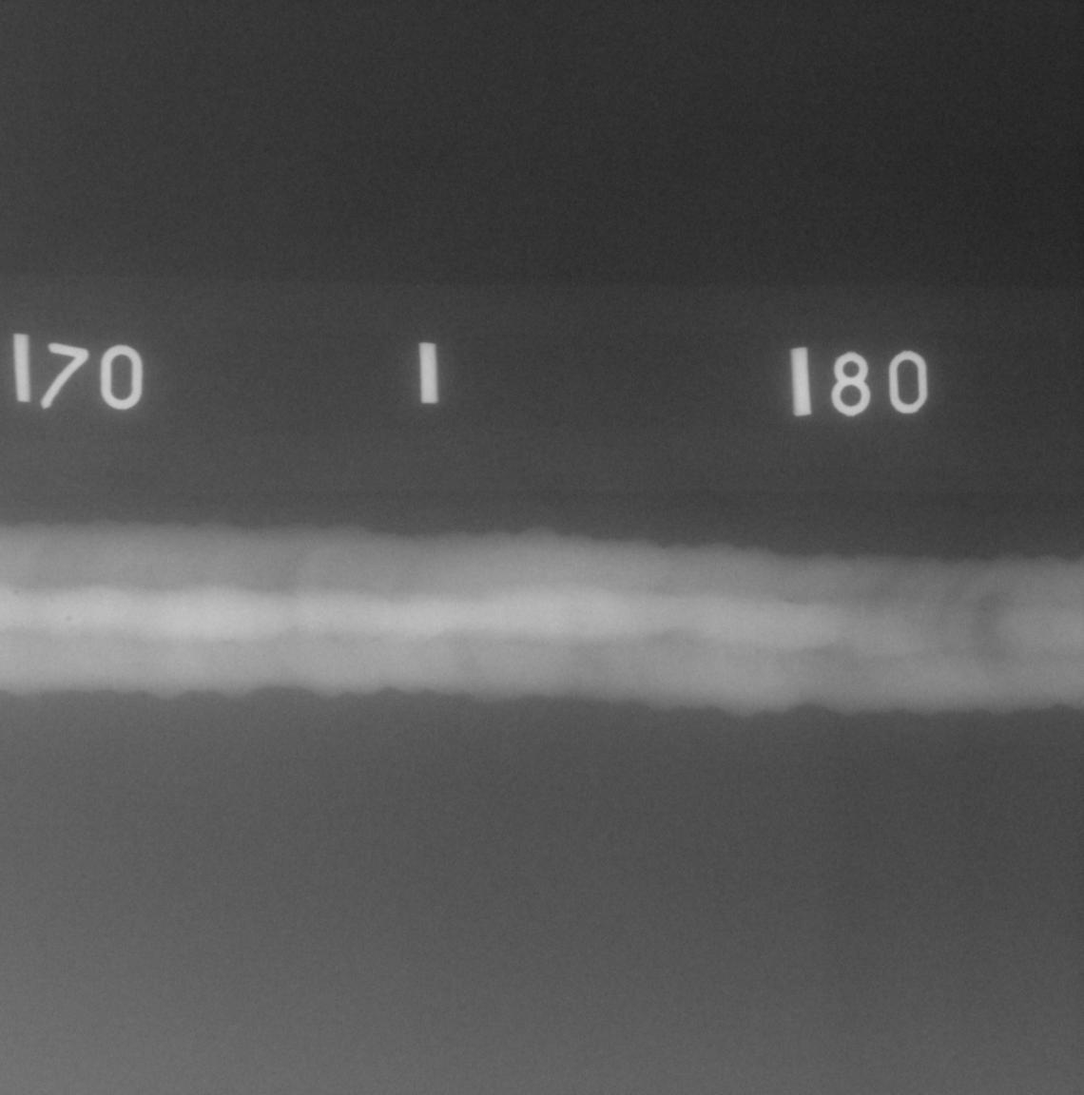Pore/Porosity: (14, 590, 18, 594), (66, 617, 70, 621), (756, 650, 759, 654)
